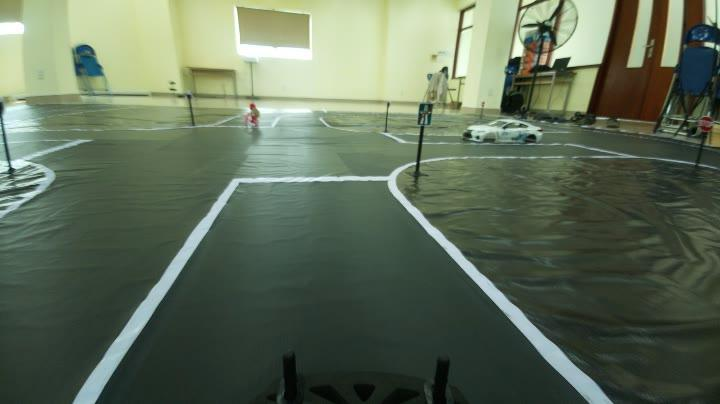highway_exit: (414, 102, 434, 126)
